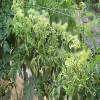Tomato leaf yellow virus: (37, 37, 44, 48), (68, 88, 74, 99), (25, 45, 29, 57), (57, 73, 61, 81), (54, 39, 58, 46), (43, 59, 46, 68), (67, 59, 70, 68), (82, 51, 84, 62), (86, 51, 89, 58), (15, 31, 20, 35), (51, 47, 55, 52), (51, 57, 54, 62), (72, 58, 74, 64), (46, 61, 48, 66), (48, 59, 50, 64), (51, 64, 52, 73), (53, 64, 55, 68), (78, 54, 79, 58)
